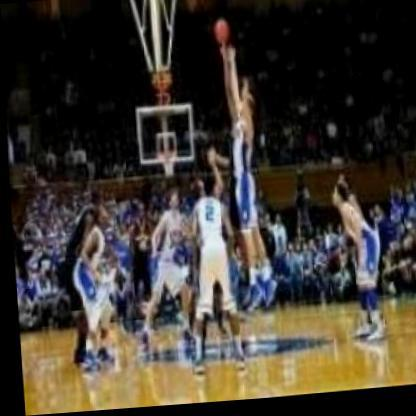basketball: (211, 19, 232, 46)
